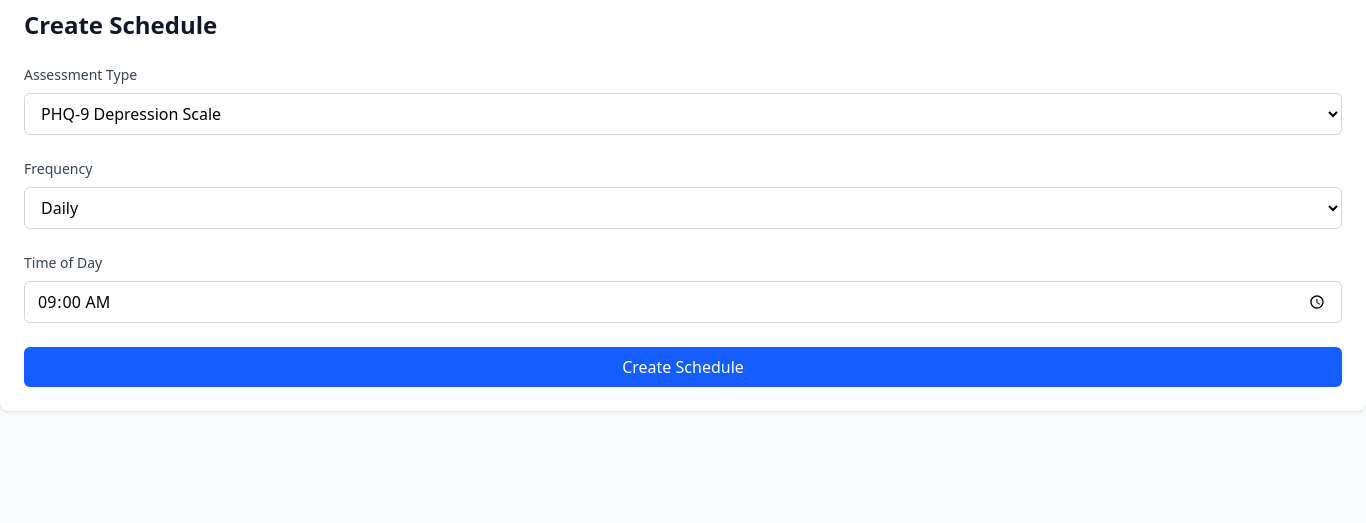
Test: ScheduleForm › should show day of month selector for monthly frequency
Expected: the field labelled "Day of Month" is not shown
Select "Monthly" in the dropdown labelled "Frequency". click: (683, 208)
box: [24,187,1342,229]
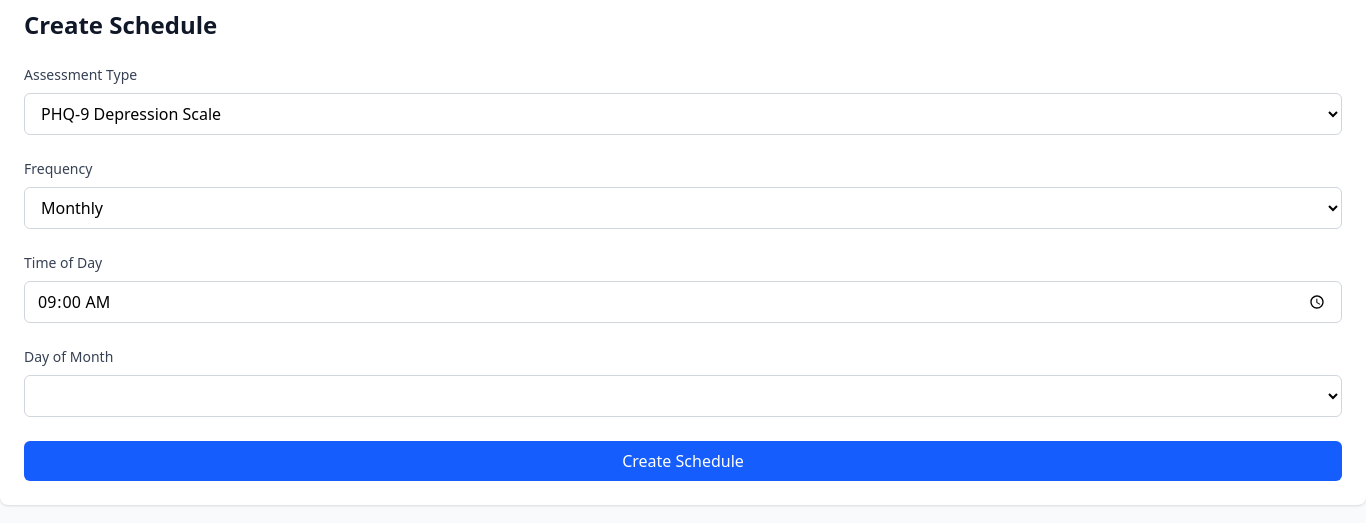
Expected: the dropdown labelled "Day of Month" is shown, [24,375,1342,417]
